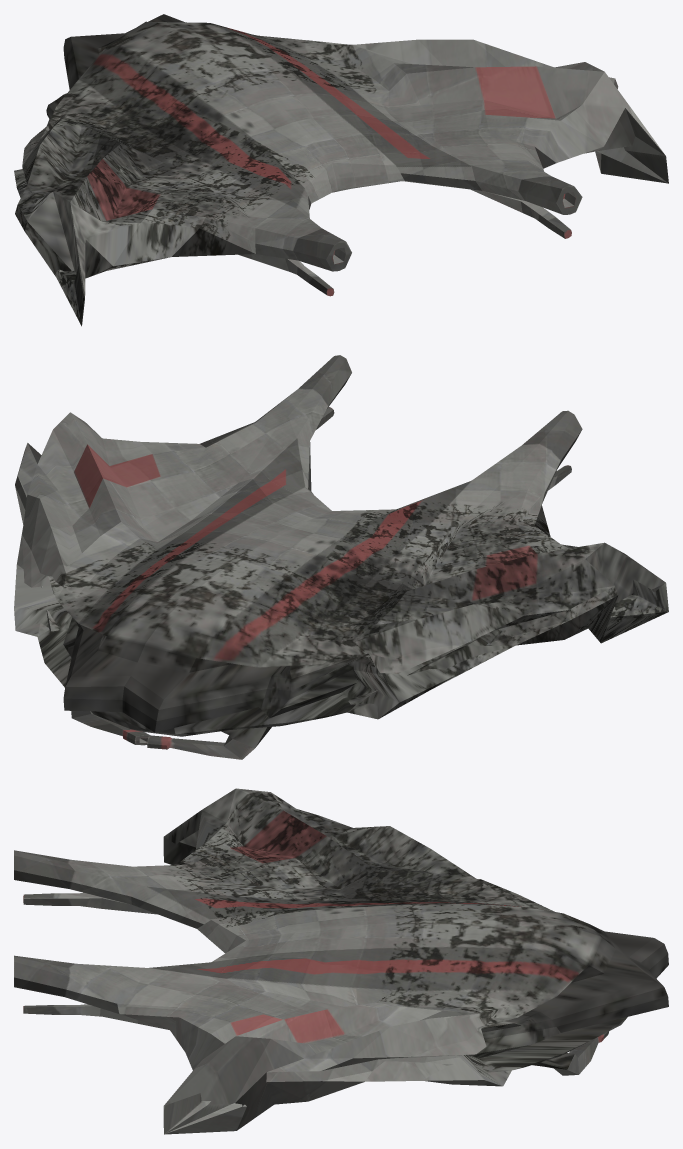
File: shipuv broken.fbx
3 views of the same model, one above another, from view 1: azimuth 30°, elevation 25°; view 2: azimuth 150°, elevation 25°; view 3: azimuth 270°, elevation 25° (orthographic). The views are drawn at different scales.
Parts seen in each view (by area): view 1: Cube; view 2: Cube; view 3: Cube.
Boxes of the visible parts, x1,y1,x2,y2 form: Cube: (14,14,668,326); Cube: (14,355,668,759); Cube: (14,788,668,1134).
Bounding box in the file's own units: 2.1 × 0.4831 × 2.12.
Materials: 1 (1 with a texture image).
